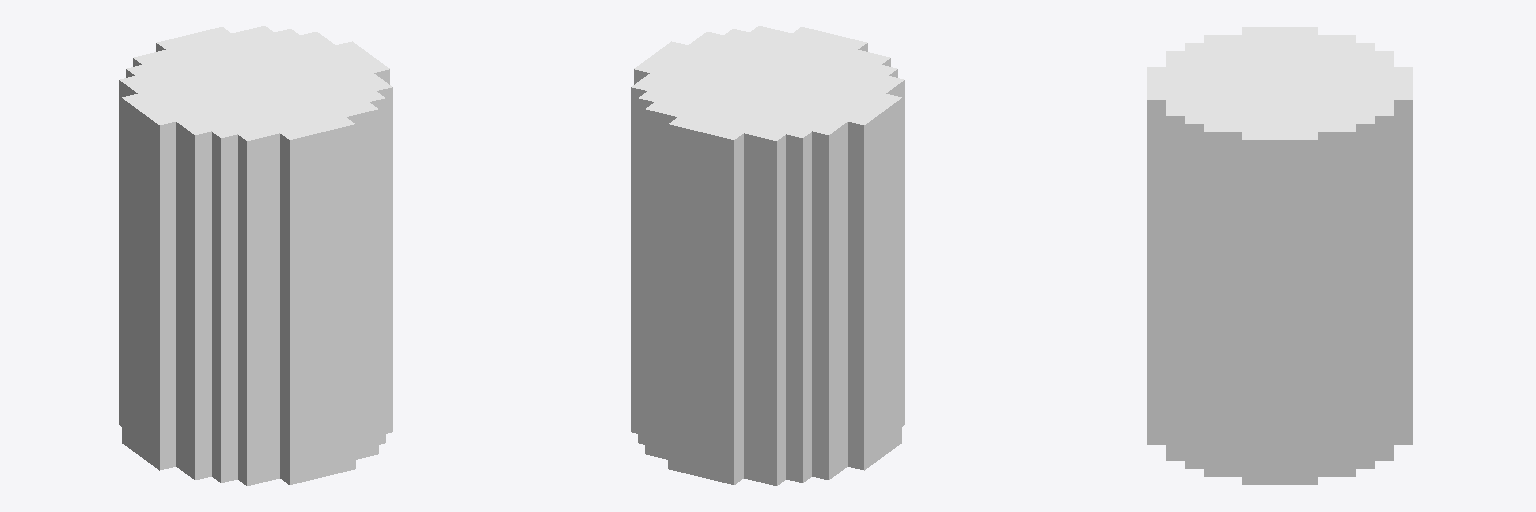
The model's file is Tubo.obj.
3 views of the same model, side by side, from view 1: azimuth 30°, elevation 25°; view 2: azimuth 150°, elevation 25°; view 3: azimuth 270°, elevation 25° (orthographic).
Parts seen in each view (by area): view 1: object 1; view 2: object 1; view 3: object 1.
Boxes of the visible parts, x1=… form: object 1: x1=119, y1=26, x2=392, y2=485; object 1: x1=631, y1=26, x2=904, y2=485; object 1: x1=1147, y1=27, x2=1412, y2=484.
Bounding box in the file's own units: 1.4 × 2 × 1.4.